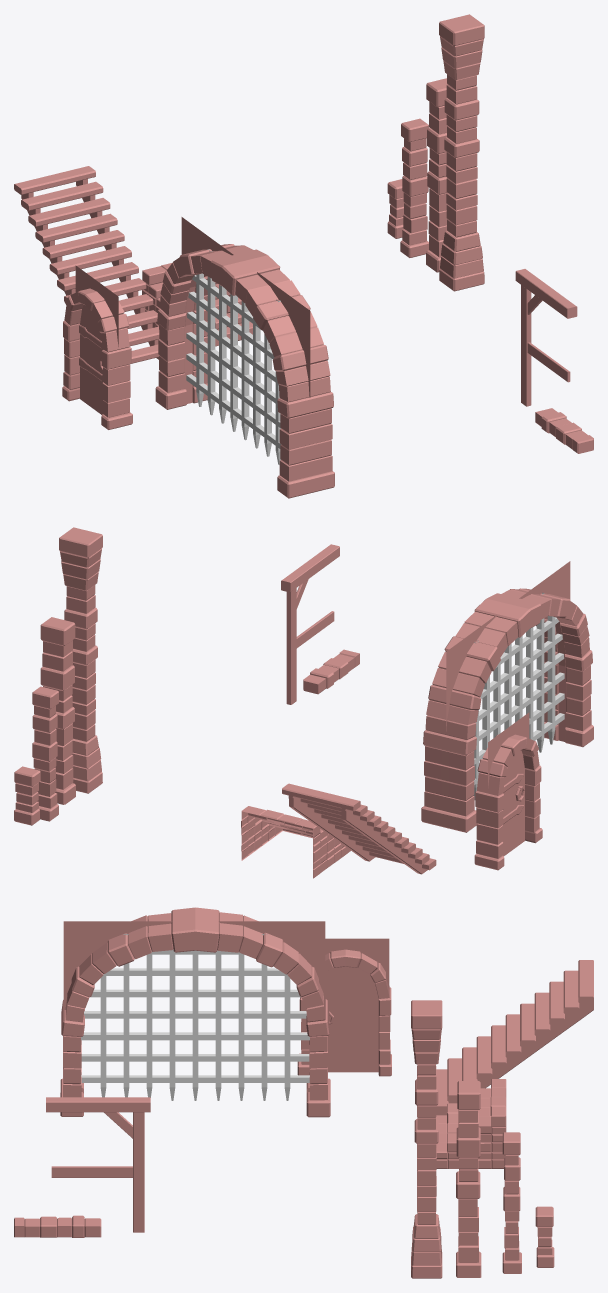
Rendered from StandardAssetPk.fbx.
3 views of the same model, one above another, from view 1: azimuth 30°, elevation 25°; view 2: azimuth 150°, elevation 25°; view 3: azimuth 270°, elevation 25° (orthographic). The views are drawn at different scales.
Visible parts, largest first — view 1: GatWay, WoodStairs, StonePillarH5, Gate, DoorFrame2, PillarH2_5, PillarH3_5, GatWayWall, Door, FloorPilarStraight, StoneStair, WoodBeam (+3 smaller); view 2: GatWay, StonePillarH5, Gate, WoodStairs, DoorFrame2, PillarH3_5, StoneStair, PillarH2_5, GatWayWall, Door, PillarH1, FloorPilarStraight (+4 smaller); view 3: Gate, GatWay, WoodStairs, StonePillarH5, Door, GatWayWall, PillarH3_5, StoneStair, DoorFrame2, PillarH2_5, FloorPilarStraight, WoodBeam (+4 smaller).
Part boxes in pixels (box(x1,y1,x2,y2)): GatWay: box(155, 244, 334, 498); WoodStairs: box(14, 166, 159, 363); StonePillarH5: box(439, 14, 484, 291); Gate: box(186, 249, 280, 464); DoorFrame2: box(62, 288, 132, 429); PillarH2_5: box(400, 118, 428, 257); PillarH3_5: box(426, 78, 447, 272); GatWayWall: box(181, 217, 310, 397); Door: box(79, 305, 102, 414); FloorPilarStraight: box(535, 408, 593, 453); StoneStair: box(142, 263, 252, 346); WoodBeam: box(521, 285, 531, 406); GatWay: box(421, 588, 593, 832); StonePillarH5: box(59, 527, 102, 793); Gate: box(473, 592, 564, 799); WoodStairs: box(282, 783, 436, 874); DoorFrame2: box(474, 734, 542, 870); PillarH3_5: box(40, 617, 75, 804); StoneStair: box(241, 806, 350, 878); PillarH2_5: box(32, 686, 58, 821); GatWayWall: box(446, 561, 570, 731); Door: box(502, 750, 524, 855); PillarH1: box(14, 766, 40, 825); FloorPilarStraight: box(303, 649, 359, 694); Gate: box(81, 934, 309, 1100); GatWay: box(60, 907, 330, 1117); WoodStairs: box(436, 960, 593, 1115); StonePillarH5: box(411, 1000, 442, 1278); Door: box(325, 966, 378, 1072); GatWayWall: box(63, 921, 325, 1009); PillarH3_5: box(456, 1081, 481, 1277); StoneStair: box(436, 1079, 506, 1168); DoorFrame2: box(297, 949, 391, 1076); PillarH2_5: box(502, 1132, 521, 1273); FloorPilarStraight: box(14, 1215, 101, 1237); WoodBeam: box(133, 1112, 144, 1232).
Size of the model in its own units: 8.76 by 5.05 by 9.97.
